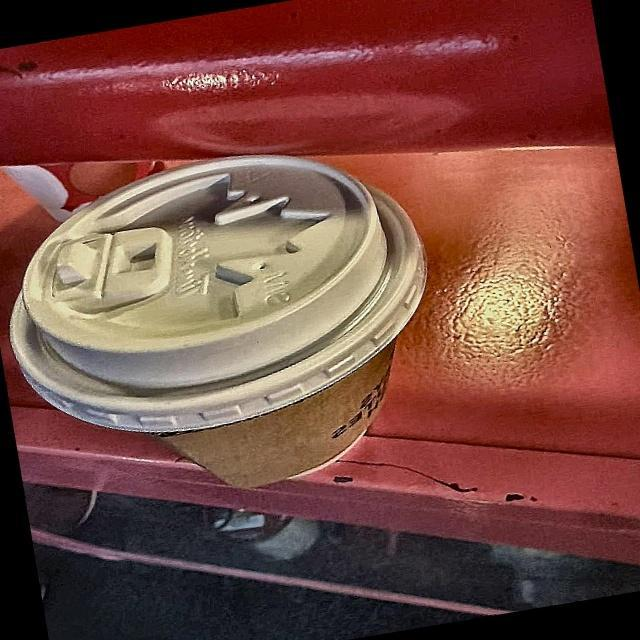timmies: (10, 154, 432, 492)
